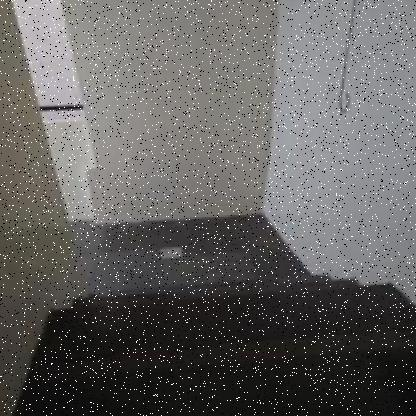stair_down: (38, 258, 350, 336)
